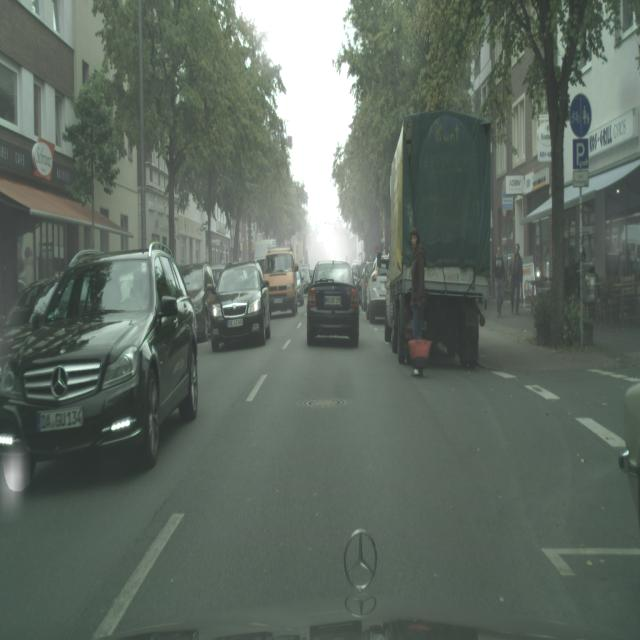bicycle: (384, 110, 492, 369)
bus: (0, 242, 199, 496), (208, 261, 271, 351), (306, 259, 360, 348), (180, 263, 217, 339), (261, 248, 298, 317), (365, 255, 388, 324)
person: (409, 228, 426, 339), (509, 242, 523, 316), (494, 244, 506, 318)
